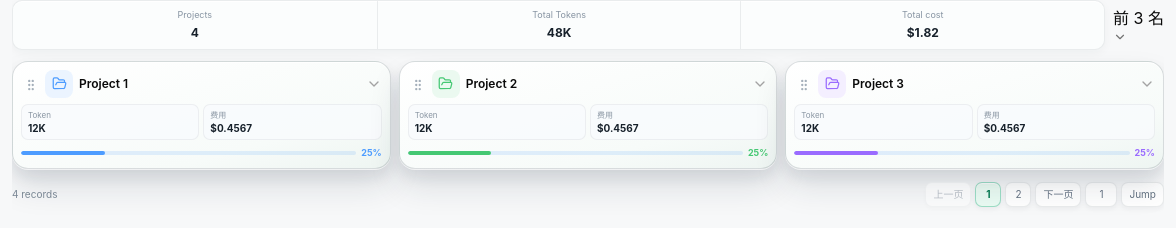
Test: ProjectUsagePanel › shows total records and lets users jump to a project page
The width and height of the screenshot is (1176, 228).
Expected: the text with test id "project-pagination-total" shows "4", [12,188,57,200]
Replace the text in the field named "Page number" with "2" at x=1102, y=194, box [1086,182,1118,206]
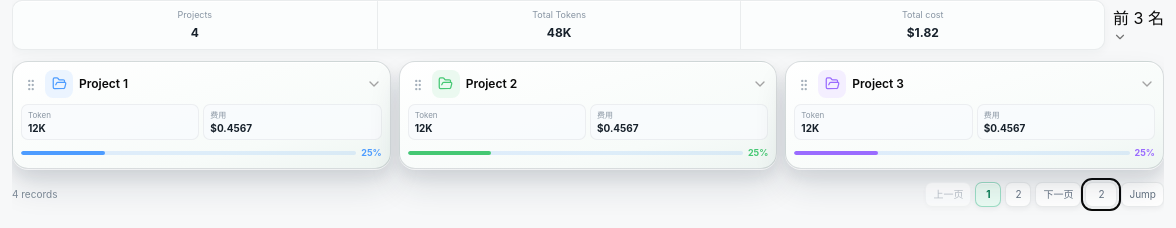
Click the button "Jump" at x=1143, y=194, box [1122,182,1164,206]
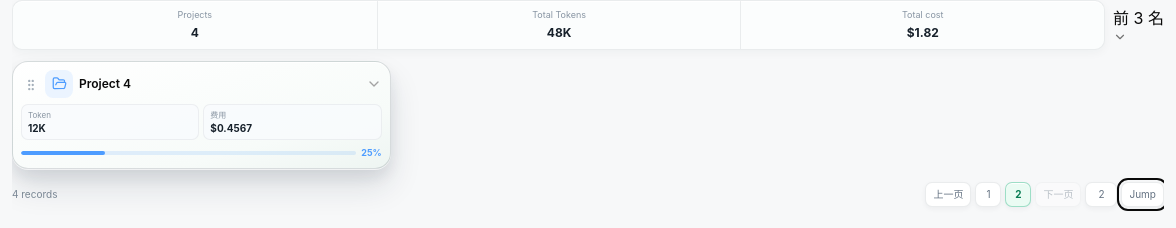
Now the text "Project 4" is shown, box [79,76,131,90]
